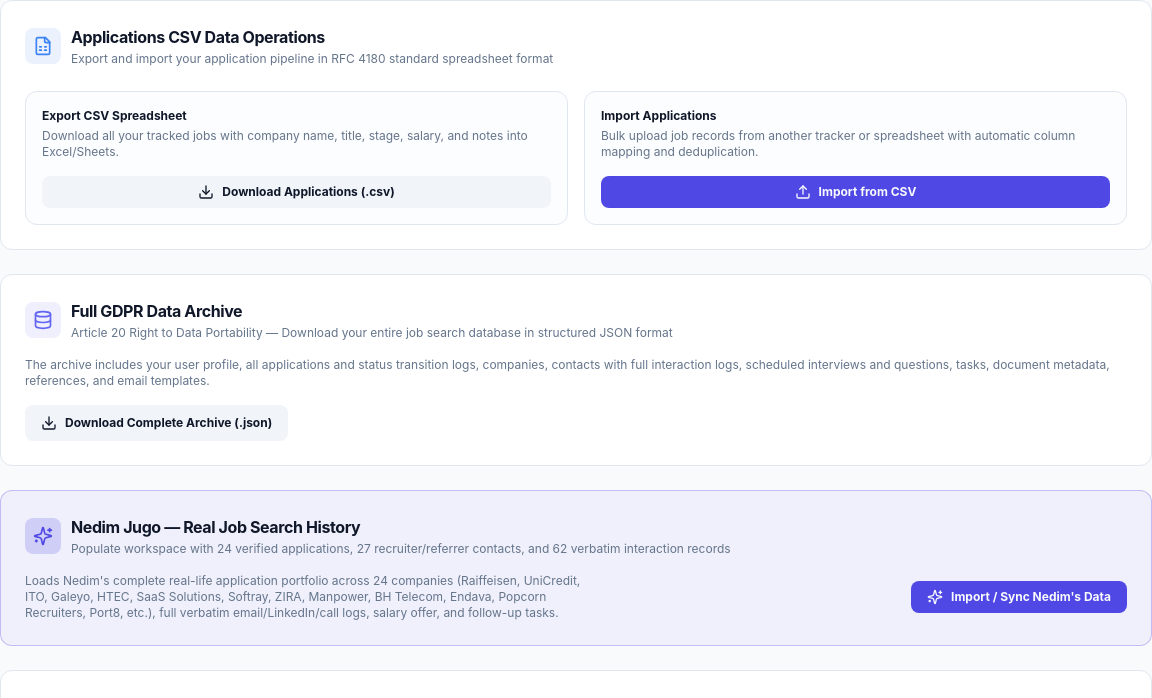
Test case: Settings and Data Management Features › DataManagementTab › opens and closes CSV import modal
Expected: the text "Import Applications from CSV" is not shown
Note: Open modal
Click the button "Import from CSV": (856, 192) 601,176 -> 1110,208
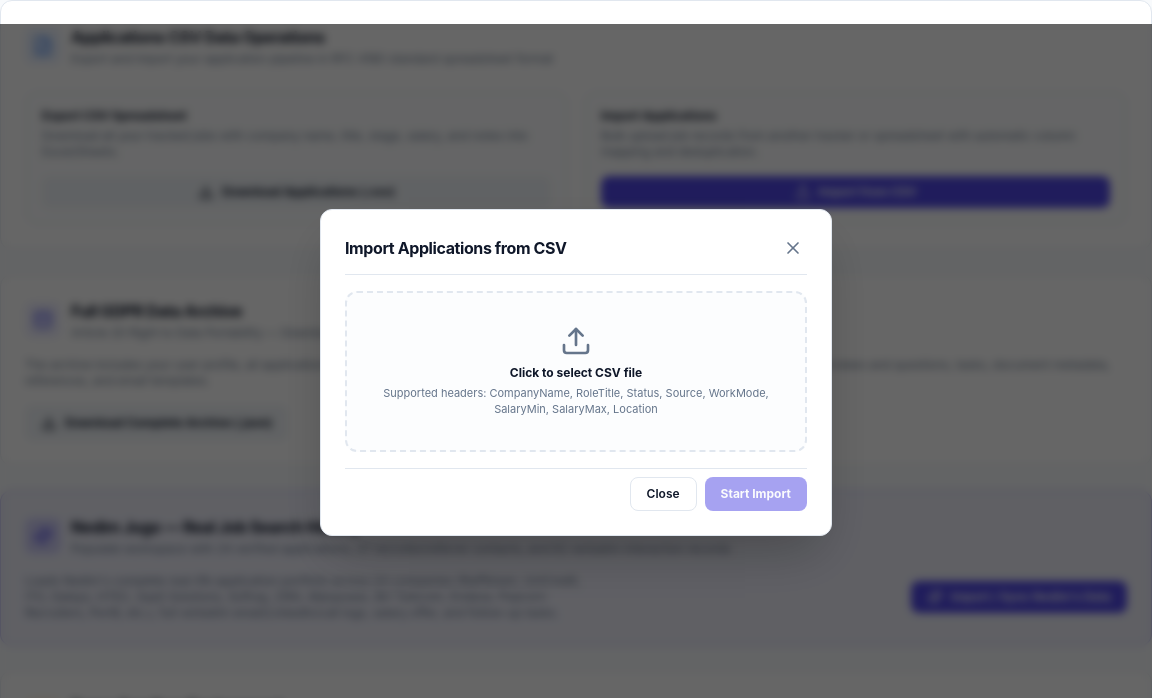
Result: the heading "Import Applications from CSV" is shown at 345,236 -> 567,260
Result: the text "Click to select CSV file" is shown at 510,364 -> 642,380
Note: Close modal
Click the button "Close": (663, 494) 630,476 -> 697,510
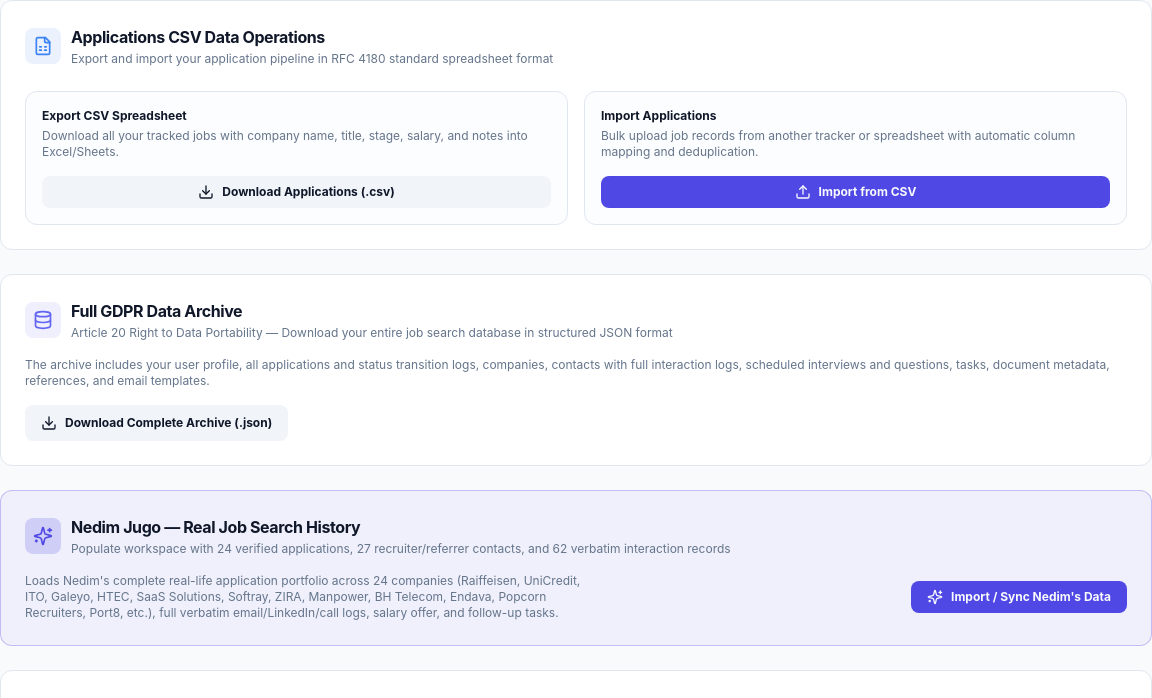
Result: the heading "Import Applications from CSV" is gone
